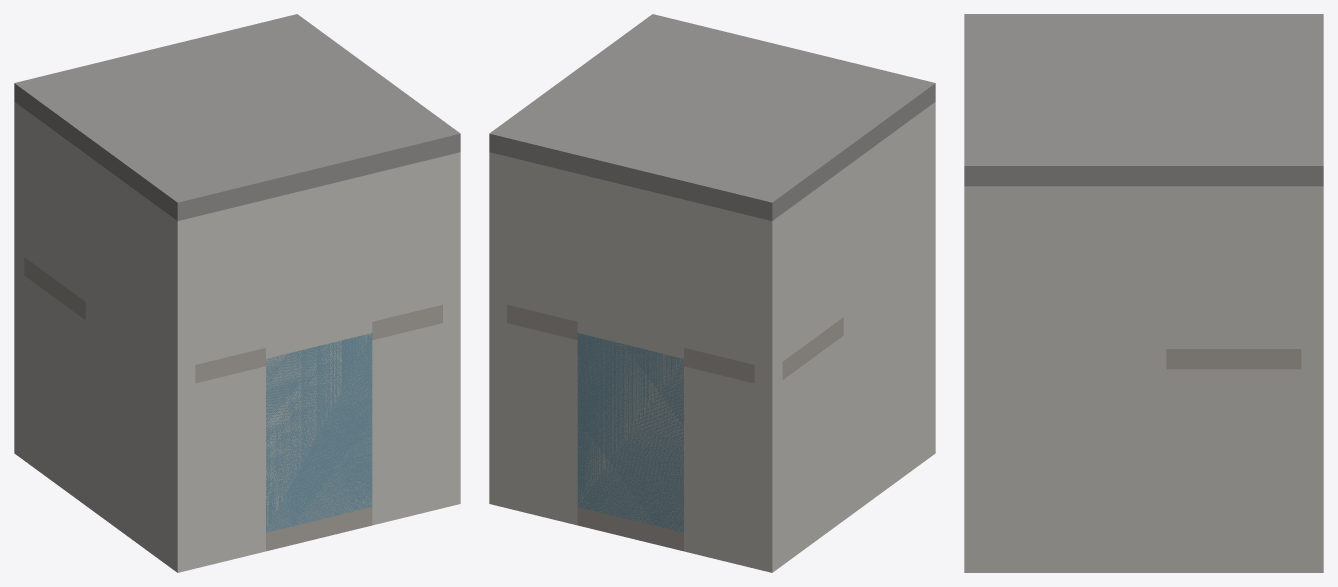
The model's file is canal-ford.glb.
3 views of the same model, side by side, from view 1: azimuth 30°, elevation 25°; view 2: azimuth 150°, elevation 25°; view 3: azimuth 270°, elevation 25° (orthographic). The views are drawn at different scales.
Parts seen in each view (by area): view 1: ceiling_1, plug_canal_south, wall_3, water_2, wall_11, wall_5, wall_6, wall_7, plug_canal_south.001, plug_west, wall_14, wall_4 (+8 smaller); view 2: ceiling_1, plug_canal_north, wall_3, water_1, wall_11, wall_5, wall_6, plug_canal_north.001, wall_7, plug_west, wall_1, wall_13 (+8 smaller); view 3: ceiling_1, wall_4, wall_12, wall_8, plug_east, wall_16, wall_2, wall_10, floor_5.
Boxes of the visible parts, box(x1,y1,x2,y2) form: ceiling_1: box(14, 14, 460, 220); plug_canal_south: box(195, 175, 442, 364); wall_3: box(85, 302, 195, 572); water_2: box(266, 333, 372, 532); wall_11: box(85, 154, 195, 369); wall_5: box(195, 366, 265, 568); wall_6: box(372, 323, 442, 525); wall_7: box(24, 276, 85, 505); plug_canal_south.001: box(266, 322, 372, 532); plug_west: box(24, 146, 85, 301); wall_14: box(195, 156, 442, 235); wall_4: box(443, 300, 460, 507); ceiling_1: box(489, 14, 935, 220); plug_canal_north: box(507, 175, 754, 364); wall_3: box(843, 250, 935, 520); water_1: box(577, 333, 683, 532); wall_11: box(843, 102, 935, 316); wall_5: box(684, 366, 754, 568); wall_6: box(507, 323, 577, 525); plug_canal_north.001: box(577, 322, 683, 531); wall_7: box(782, 336, 843, 564); plug_west: box(782, 206, 843, 361); wall_1: box(754, 362, 782, 572); wall_13: box(507, 156, 754, 235); ceiling_1: box(964, 14, 1323, 186); wall_4: box(964, 349, 1166, 572); wall_12: box(964, 186, 1166, 348); wall_8: box(1166, 369, 1301, 572); plug_east: box(1166, 227, 1301, 348); wall_16: box(1166, 186, 1301, 226); wall_2: box(1301, 349, 1323, 572); wall_10: box(1301, 186, 1323, 348); floor_5: box(1166, 349, 1301, 369).
Bounding box in the file's own units: 8 × 10 × 8.
